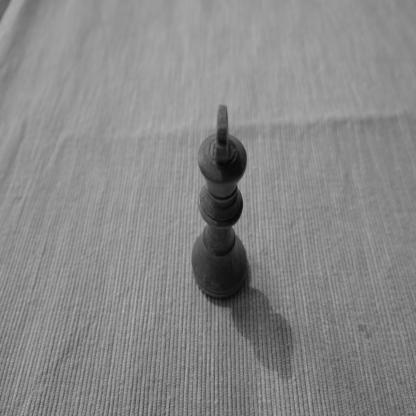white-king: (190, 103, 248, 304)
